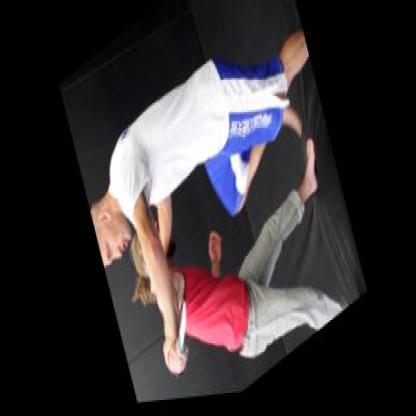knife: (153, 292, 202, 391)
